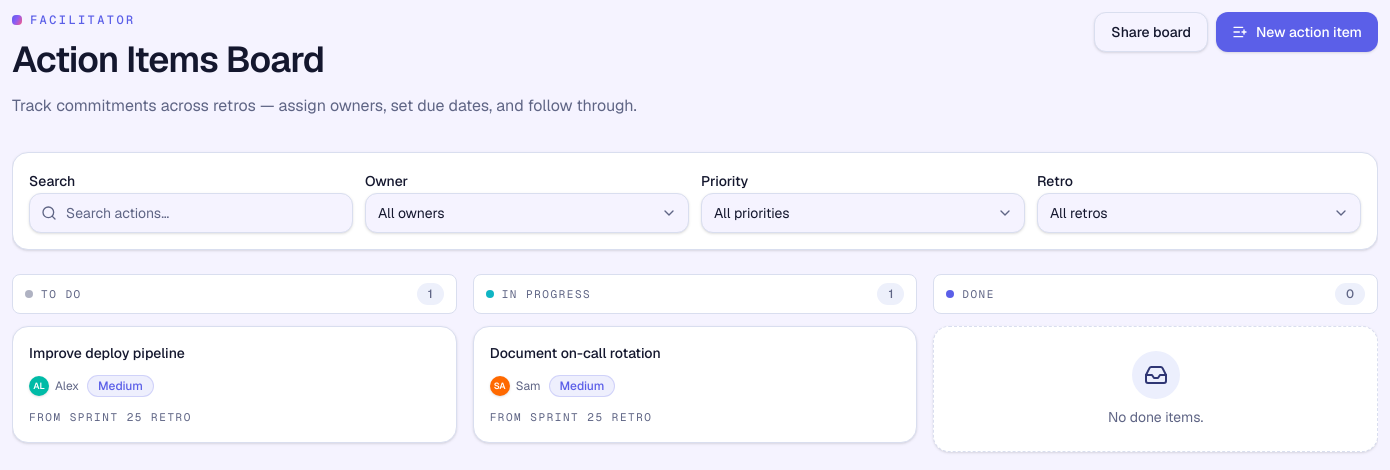
Test: ActionBoard filtering › shows an empty-filter message when nothing matches
Type "nonexistent-term" into the field with placeholder "Search actions…" at {"x": 191, "y": 213}, box [29, 193, 353, 233]
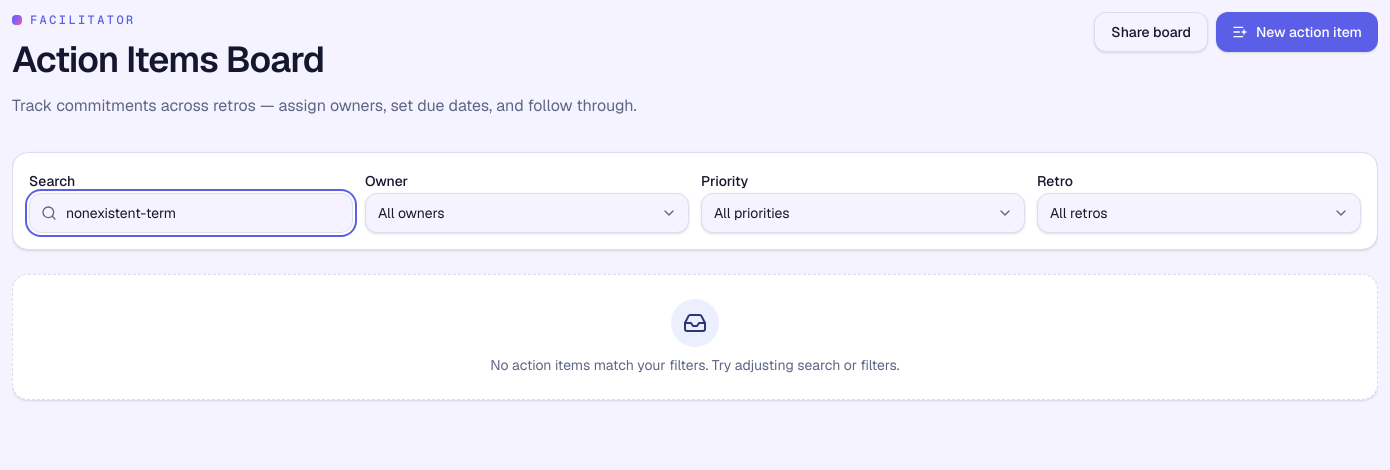
Now the text "No action items match your filters" is shown, box [490, 356, 900, 374]
